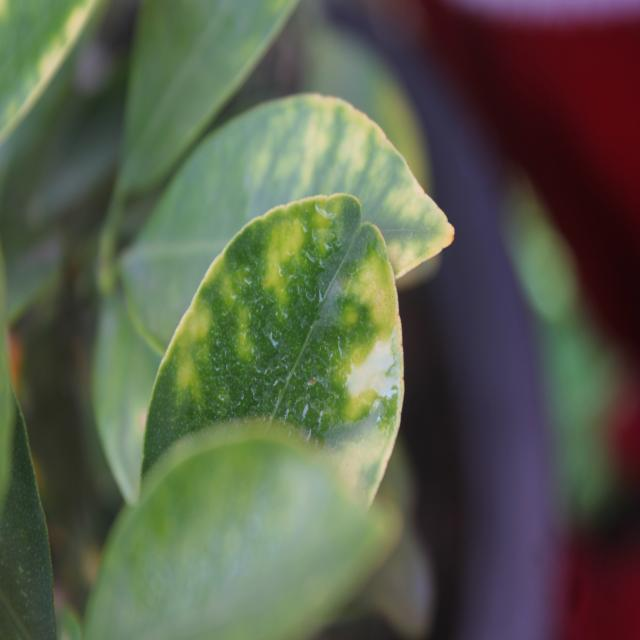greening: (184, 207, 417, 484), (263, 106, 437, 282)
